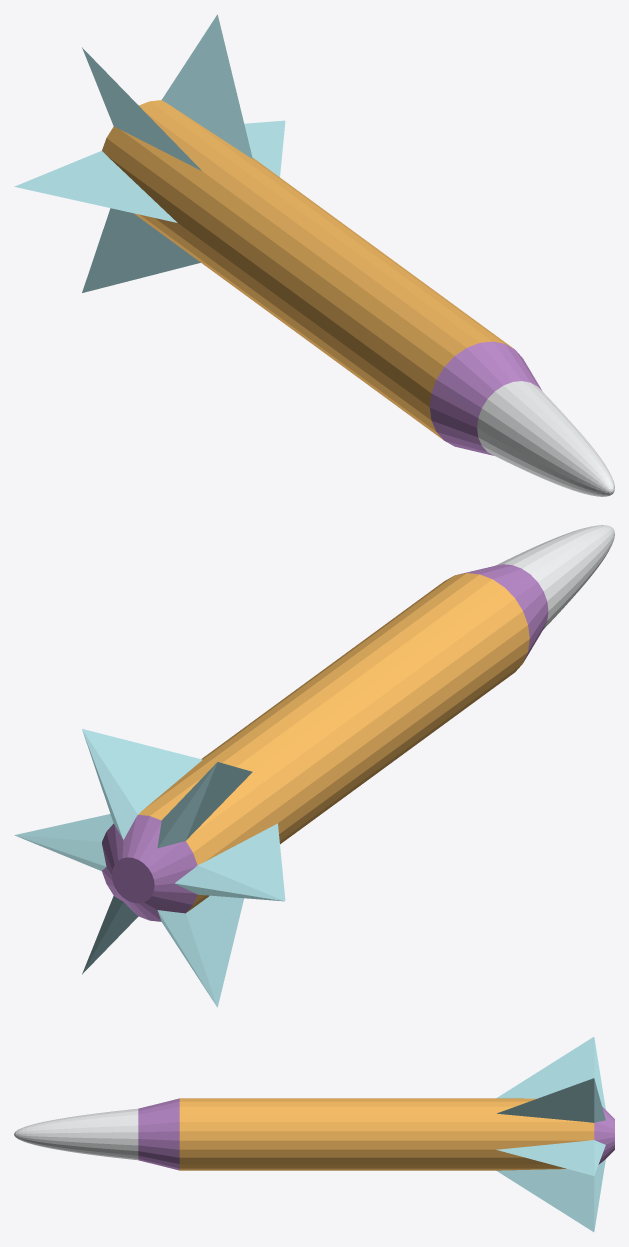
3 views of the same model, one above another, from view 1: azimuth 30°, elevation 25°; view 2: azimuth 150°, elevation 25°; view 3: azimuth 270°, elevation 25° (orthographic). The views are drawn at different scales.
Visible parts, largest first — view 1: color_16089887, color_7720667, color_14541540, color_8273816; view 2: color_16089887, color_7720667, color_8273816, color_14541540; view 3: color_16089887, color_7720667, color_14541540, color_8273816.
Part boxes in pixels (x1,y1,x2,y2): color_16089887: (102, 100, 513, 439); color_7720667: (14, 14, 285, 292); color_14541540: (477, 381, 614, 496); color_8273816: (429, 341, 541, 455); color_16089887: (138, 573, 529, 912); color_7720667: (14, 729, 285, 1007); color_8273816: (102, 564, 548, 921); color_14541540: (496, 525, 614, 629); color_16089887: (179, 1098, 594, 1170); color_7720667: (496, 1037, 605, 1231); color_14541540: (14, 1108, 138, 1160); color_8273816: (138, 1098, 614, 1170).
Size of the model in its own units: 38 by 32.91 by 116.
